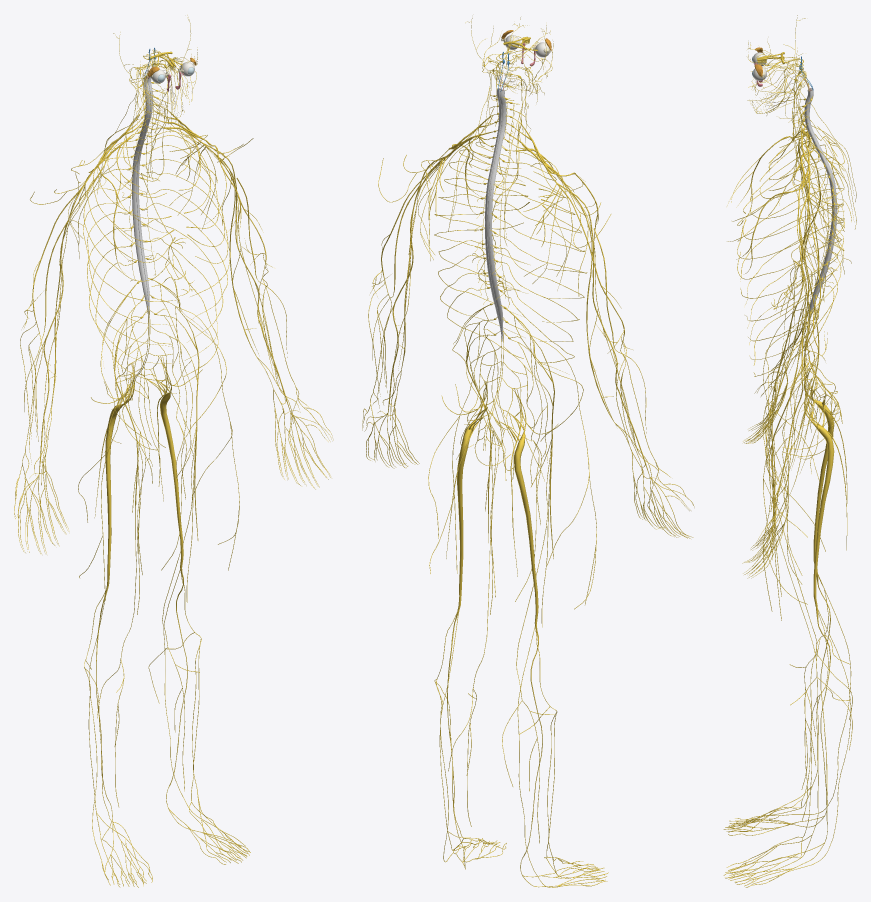
File: nerves.glb
3 renders of one model, left to right at view 1: azimuth 30°, elevation 25°; view 2: azimuth 150°, elevation 25°; view 3: azimuth 270°, elevation 25°, orthographic. The views are drawn at different scales.
Parts seen in each view (by area): view 1: intercostal-nerves-right, intercostal-nerves-left, white-matter-of-spinal-cord, sciatic-nerve-right, sciatic-nerve-left; view 2: white-matter-of-spinal-cord, intercostal-nerves-left, intercostal-nerves-right, sciatic-nerve-right, sciatic-nerve-left; view 3: intercostal-nerves-left, white-matter-of-spinal-cord, intercostal-nerves-right, sciatic-nerve-left, sciatic-nerve-right, saphenous-nerve-left, median-nerve-left, saphenous-nerve-right, lateral-femoral-cutaneous-nerve-left, vagus-nerve-x-right, ulnar-nerve-left, femoral-nerve-left (+8 smaller).
Boxes of the visible parts, left/top/right/bottom form: intercostal-nerves-right: left=83, top=133, right=175, bottom=380; intercostal-nerves-left: left=143, top=127, right=230, bottom=376; white-matter-of-spinal-cord: left=132, top=77, right=152, bottom=320; sciatic-nerve-right: left=105, top=363, right=134, bottom=585; sciatic-nerve-left: left=147, top=356, right=183, bottom=567; white-matter-of-spinal-cord: left=485, top=89, right=506, bottom=340; intercostal-nerves-left: left=434, top=141, right=529, bottom=358; intercostal-nerves-right: left=496, top=150, right=587, bottom=363; sciatic-nerve-right: left=500, top=388, right=538, bottom=623; sciatic-nerve-left: left=457, top=382, right=486, bottom=605; intercostal-nerves-left: left=737, top=148, right=844, bottom=376; white-matter-of-spinal-cord: left=804, top=90, right=837, bottom=325; intercostal-nerves-right: left=737, top=135, right=844, bottom=365; sciatic-nerve-left: left=804, top=378, right=834, bottom=607; sciatic-nerve-right: left=804, top=365, right=834, bottom=571; saphenous-nerve-left: left=769, top=445, right=852, bottom=821; median-nerve-left: left=776, top=192, right=809, bottom=502; saphenous-nerve-right: left=769, top=417, right=852, bottom=789; lateral-femoral-cutaneous-nerve-left: left=762, top=335, right=825, bottom=611; vagus-nerve-x-right: left=771, top=71, right=819, bottom=315; ulnar-nerve-left: left=784, top=185, right=819, bottom=473; femoral-nerve-left: left=771, top=314, right=810, bottom=559.
Bounding box in the file's own units: 0.6675 × 1.66 × 0.2425.
